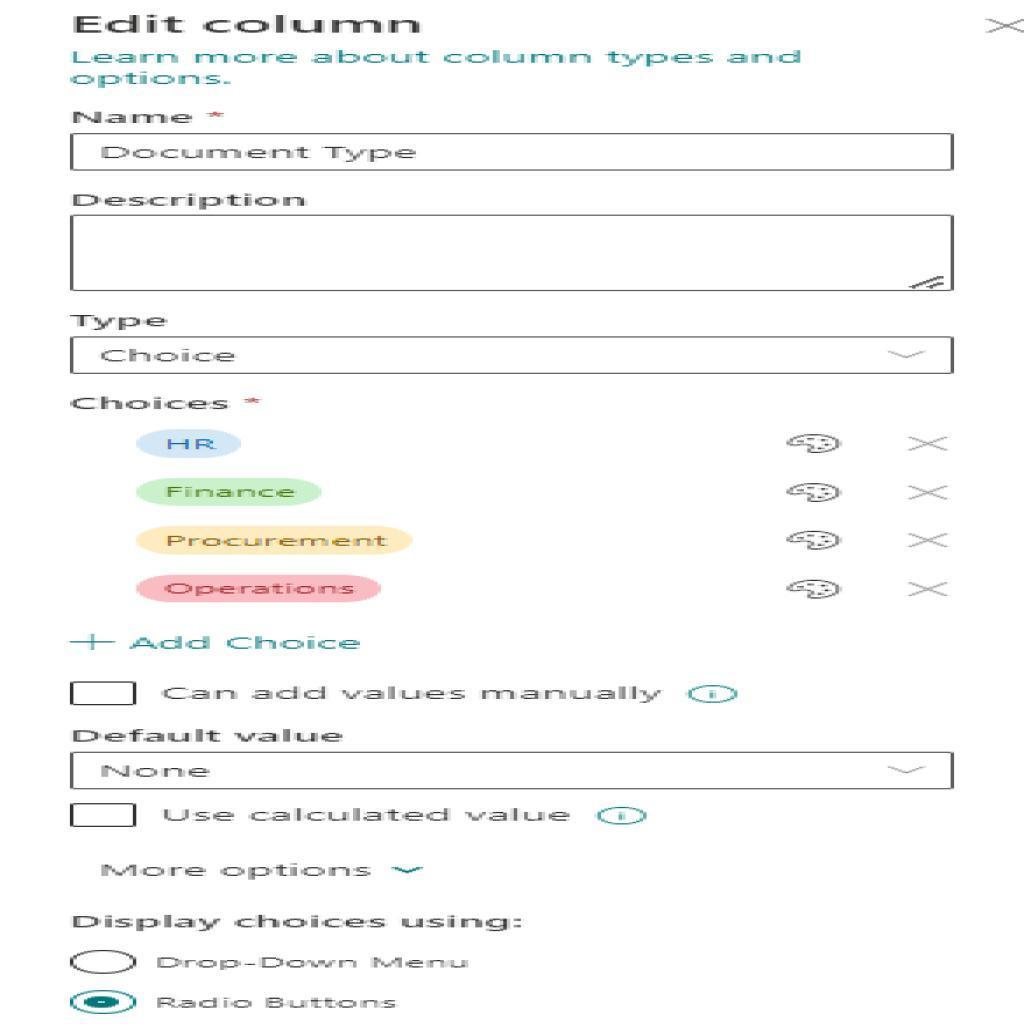checkbox: (72, 681, 137, 707), (73, 806, 137, 826)
dropdown: (73, 338, 951, 374), (72, 754, 953, 789)
icon: (787, 572, 850, 606), (784, 479, 845, 513), (787, 523, 843, 559), (903, 424, 954, 463), (787, 427, 845, 461), (596, 799, 652, 834), (909, 479, 954, 514), (687, 682, 741, 711), (903, 576, 950, 604), (907, 527, 948, 554)
input: (73, 133, 956, 174)
label: (71, 906, 533, 942), (162, 679, 662, 706), (160, 804, 575, 835), (157, 949, 476, 982), (71, 630, 358, 663), (71, 722, 345, 752), (156, 990, 401, 1018), (71, 189, 308, 210), (69, 392, 234, 420), (72, 108, 199, 127), (73, 311, 170, 333)
radio: (69, 986, 143, 1019), (72, 948, 141, 978)
